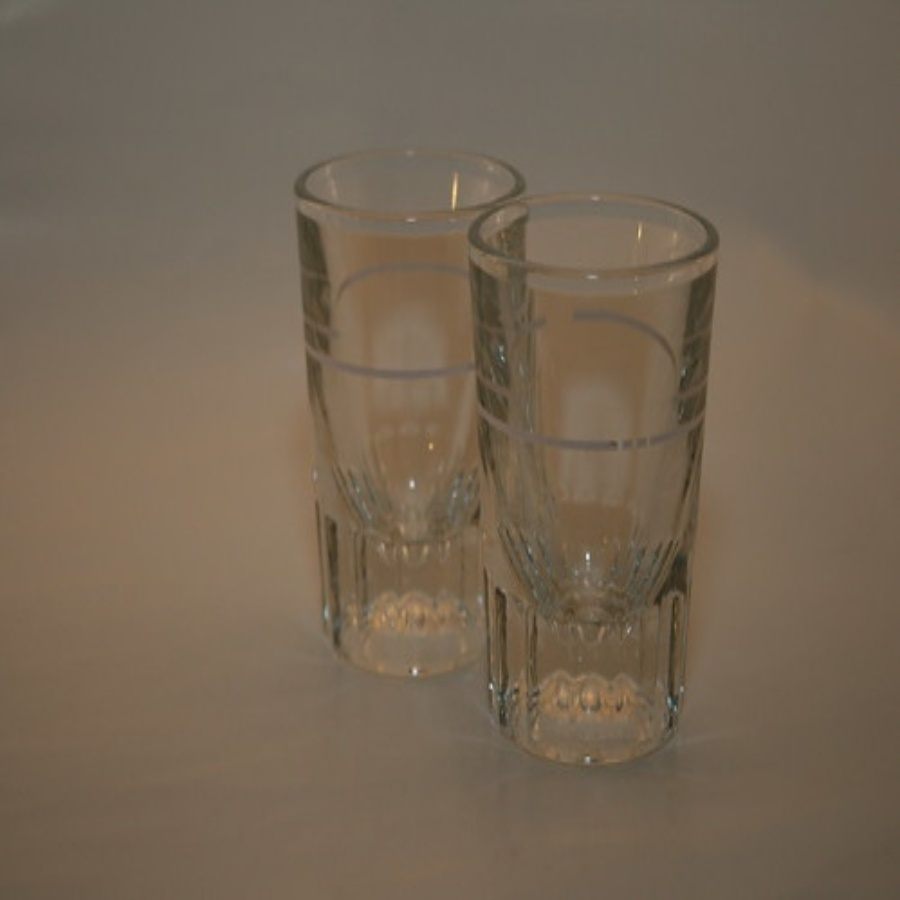whiskey: (475, 198, 730, 772), (291, 145, 546, 719)
